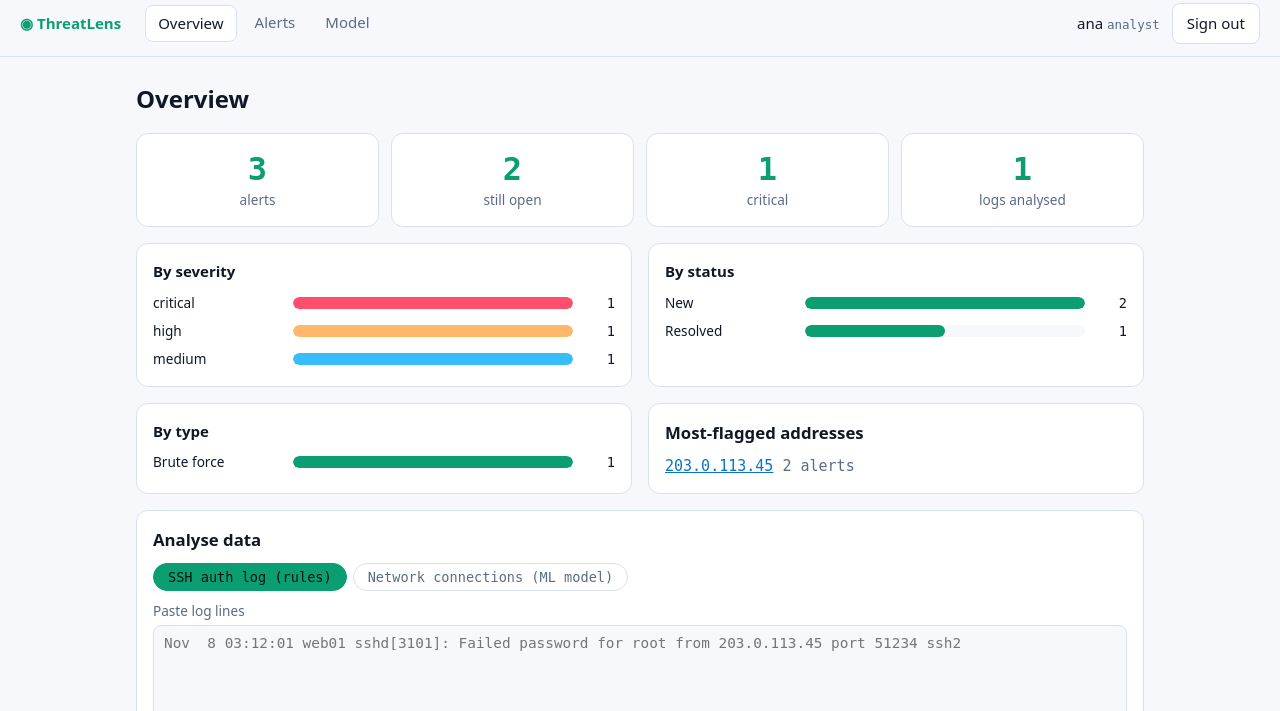
Test: machine-learning features › scores connection records and reports the result
Step 1. Click the tab "Network connections (ML model)" → (490, 576), box [353,562,628,590]
(page scrolled)
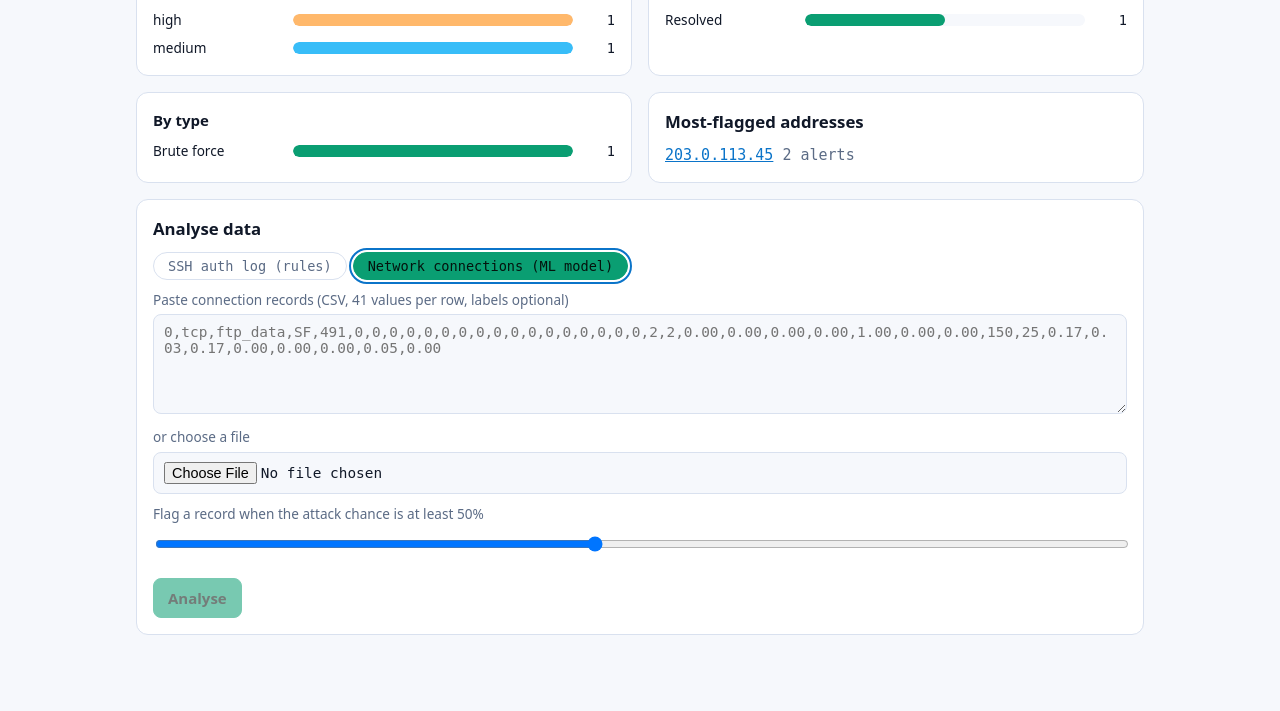
Step 2. Type "0,tcp,http" into the text box labelled "Paste connection records" → (640, 364), box [153,314,1127,414]
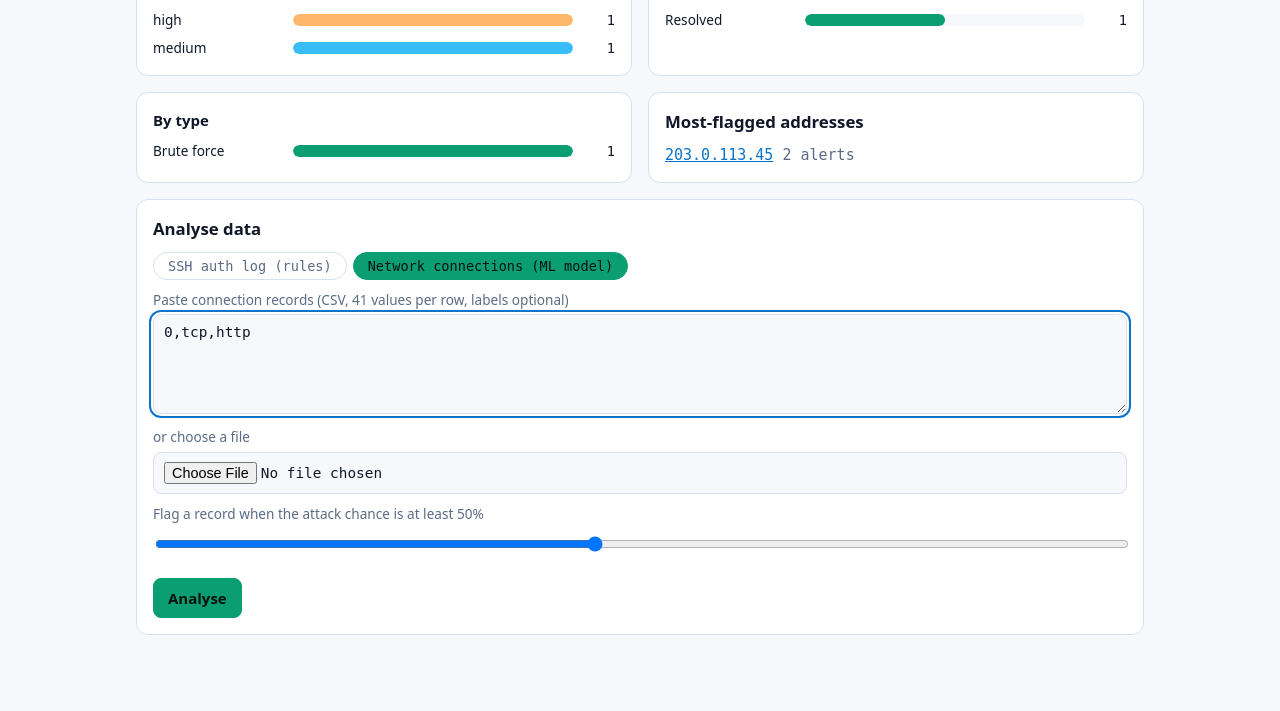
Step 3. Click the button "Analyse" → (197, 598), box [153,578,242,618]
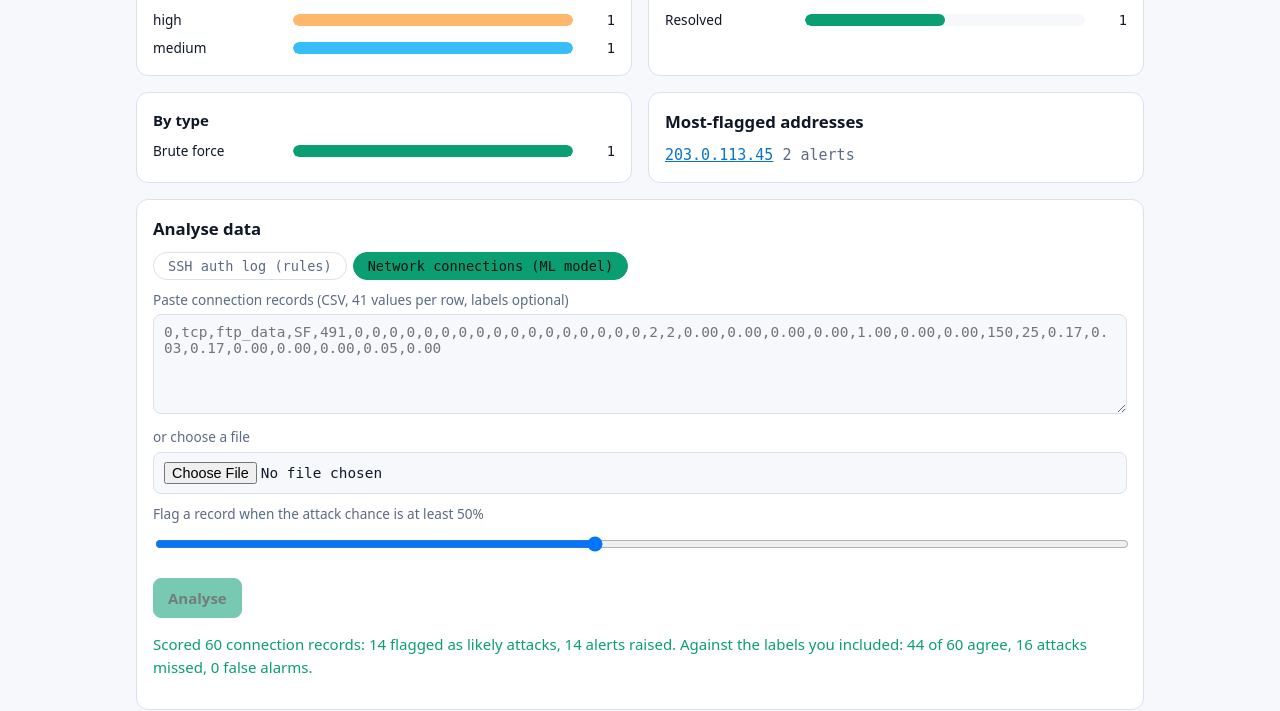
Expected: the message shows "Scored 60 connection records: 14 flagged as likely attacks, 14 alerts raised.", [153,634,1087,677]
Expected: the message shows "44 of 60 agree, 16 attacks missed, 0 false alarms", [153,634,1087,677]
